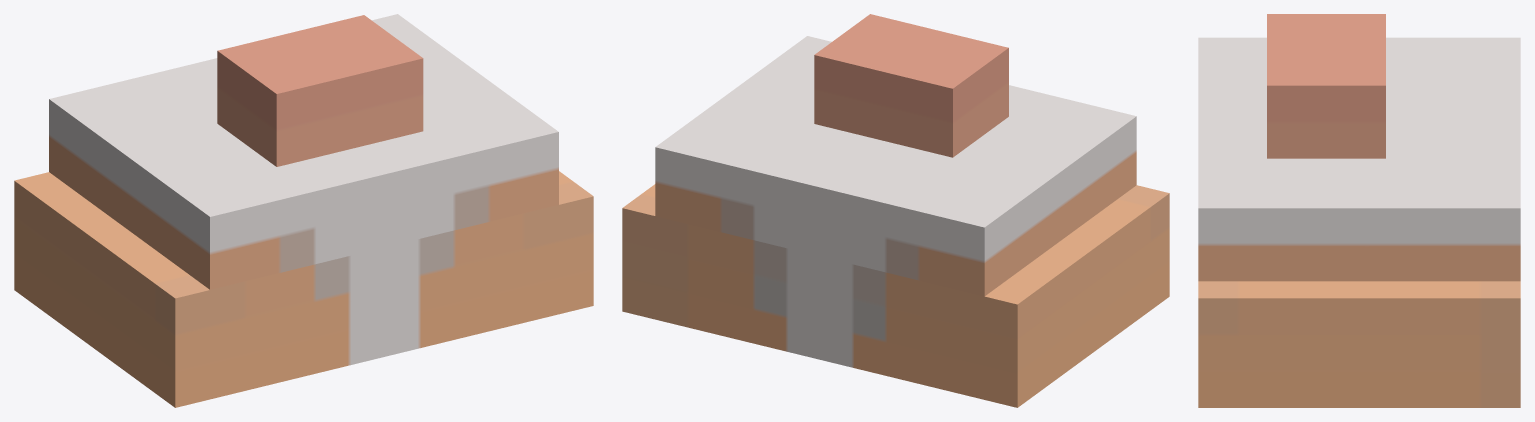
The picture shows the model from 3 angles, left to right: view 1: azimuth 30°, elevation 25°; view 2: azimuth 150°, elevation 25°; view 3: azimuth 270°, elevation 25°; orthographic projection. The views are drawn at different scales.
Parts seen in each view (by area): view 1: Root020; view 2: Root020; view 3: Root020.
Part boxes in pixels (bbox=[...]): Root020: bbox=[14, 14, 593, 407]; Root020: bbox=[622, 14, 1169, 407]; Root020: bbox=[1198, 14, 1520, 407].
Bounding box in the file's own units: 12 × 7 × 8.
